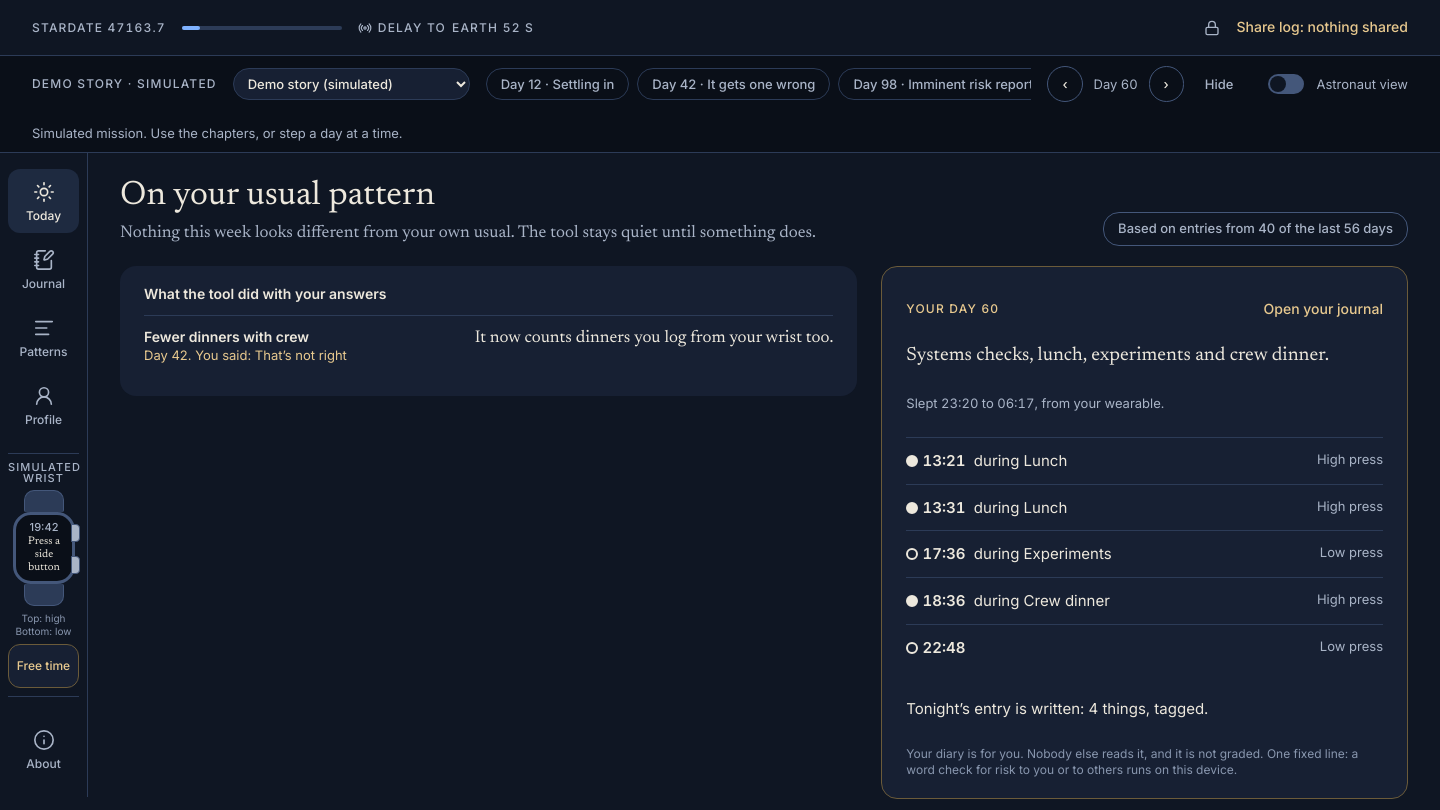
Test case: shows no alert section and no agreed lines until a line has actually sent a note
Click the switch named "Flight surgeon view" at (1286,84), box [1268,74,1304,94]
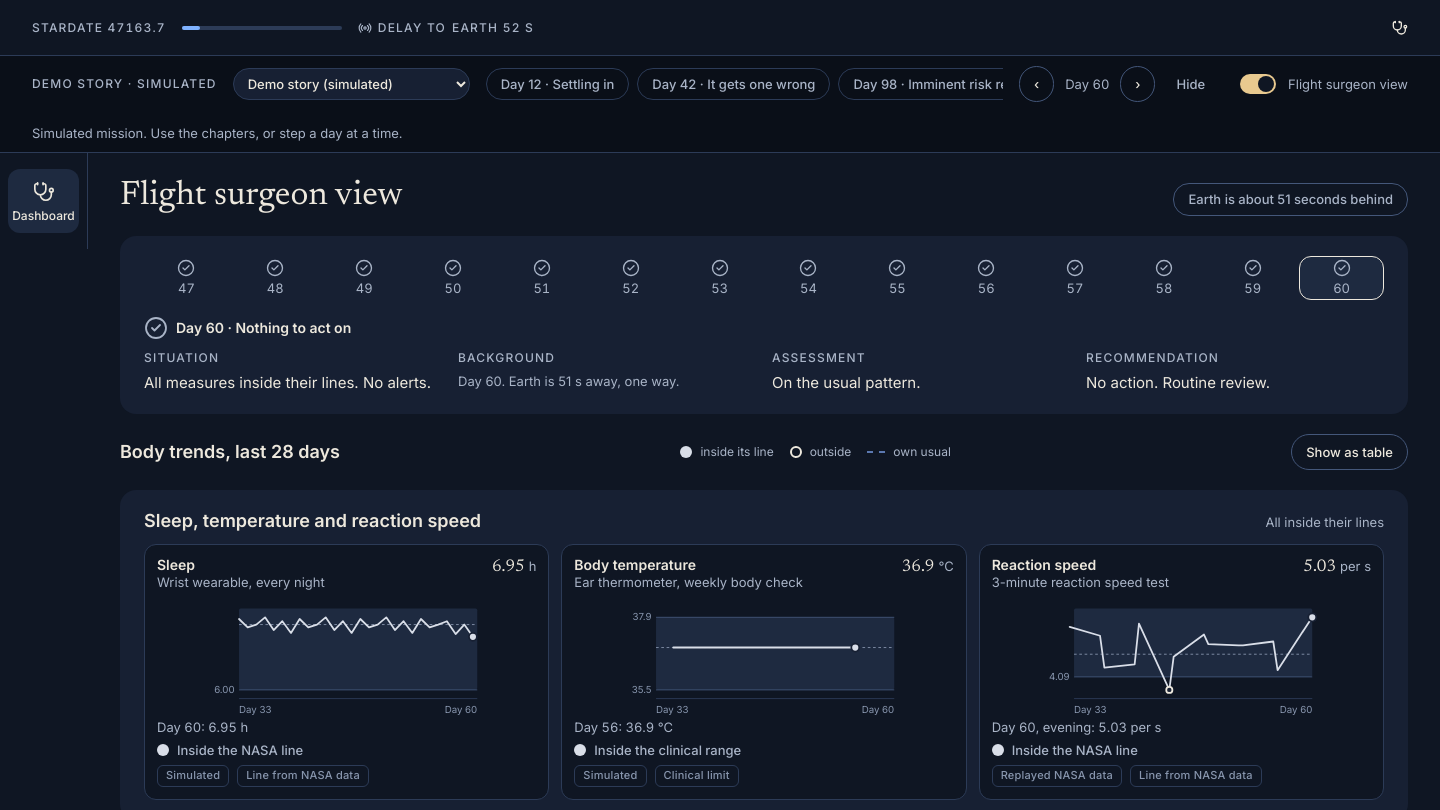
Now the element named "SBAR for day 60" is shown, box [144,316,1384,394]
